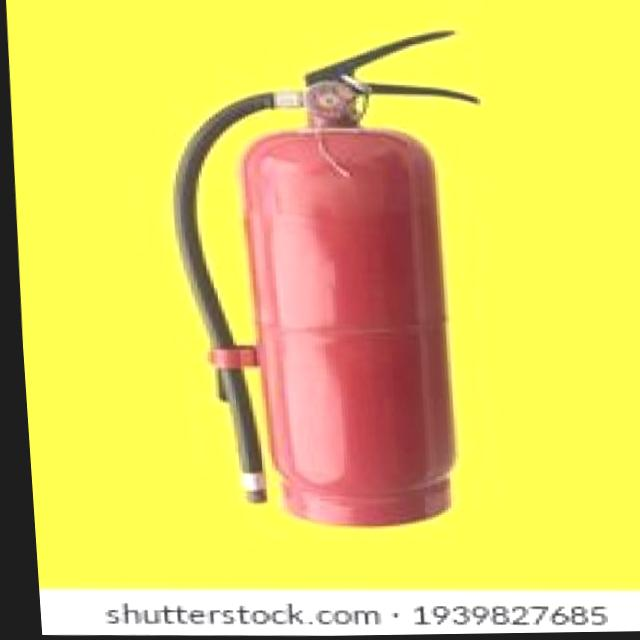FireExtinguisher: (143, 16, 507, 534)
